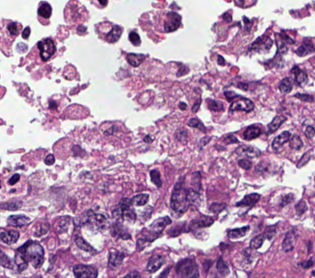nucleus: (137, 216, 171, 250), (170, 178, 189, 216), (112, 198, 135, 222), (82, 210, 107, 229), (229, 95, 254, 112), (37, 38, 55, 61), (248, 35, 272, 52), (188, 214, 213, 229), (74, 235, 96, 252), (271, 131, 290, 150), (111, 221, 130, 239), (164, 11, 181, 31), (235, 145, 260, 158), (267, 115, 285, 133), (291, 65, 307, 85), (236, 193, 260, 206), (296, 38, 313, 56), (105, 25, 122, 42), (243, 125, 261, 140), (227, 226, 249, 238), (126, 53, 145, 66), (282, 231, 294, 251), (188, 118, 205, 132), (168, 222, 185, 236), (187, 188, 200, 206), (37, 2, 51, 18), (297, 151, 311, 167), (56, 216, 70, 232), (206, 98, 223, 111), (250, 234, 265, 248), (279, 77, 292, 93), (131, 193, 148, 205), (150, 169, 161, 187), (34, 222, 48, 236), (289, 135, 302, 149), (295, 200, 307, 215), (209, 202, 225, 213), (294, 93, 313, 102), (280, 193, 293, 206), (128, 31, 140, 45), (263, 225, 275, 239), (175, 129, 187, 142), (192, 172, 200, 191), (224, 91, 239, 101), (177, 63, 188, 76), (238, 158, 251, 169), (305, 125, 314, 139), (223, 134, 237, 143), (199, 136, 210, 147), (243, 17, 251, 31), (192, 98, 200, 112), (44, 154, 54, 164), (237, 82, 249, 90), (222, 12, 231, 21), (217, 55, 225, 65), (143, 135, 152, 142), (49, 101, 56, 108), (179, 102, 186, 109), (99, 1, 107, 5)
